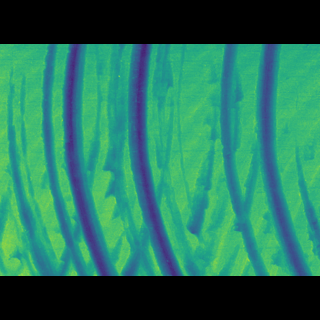Loch: (0, 73, 187, 244), (248, 76, 315, 244), (215, 75, 274, 244), (181, 134, 221, 219), (289, 149, 320, 234)
